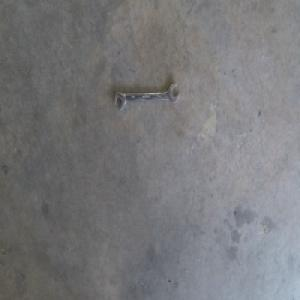Wrench: (115, 83, 179, 110)
